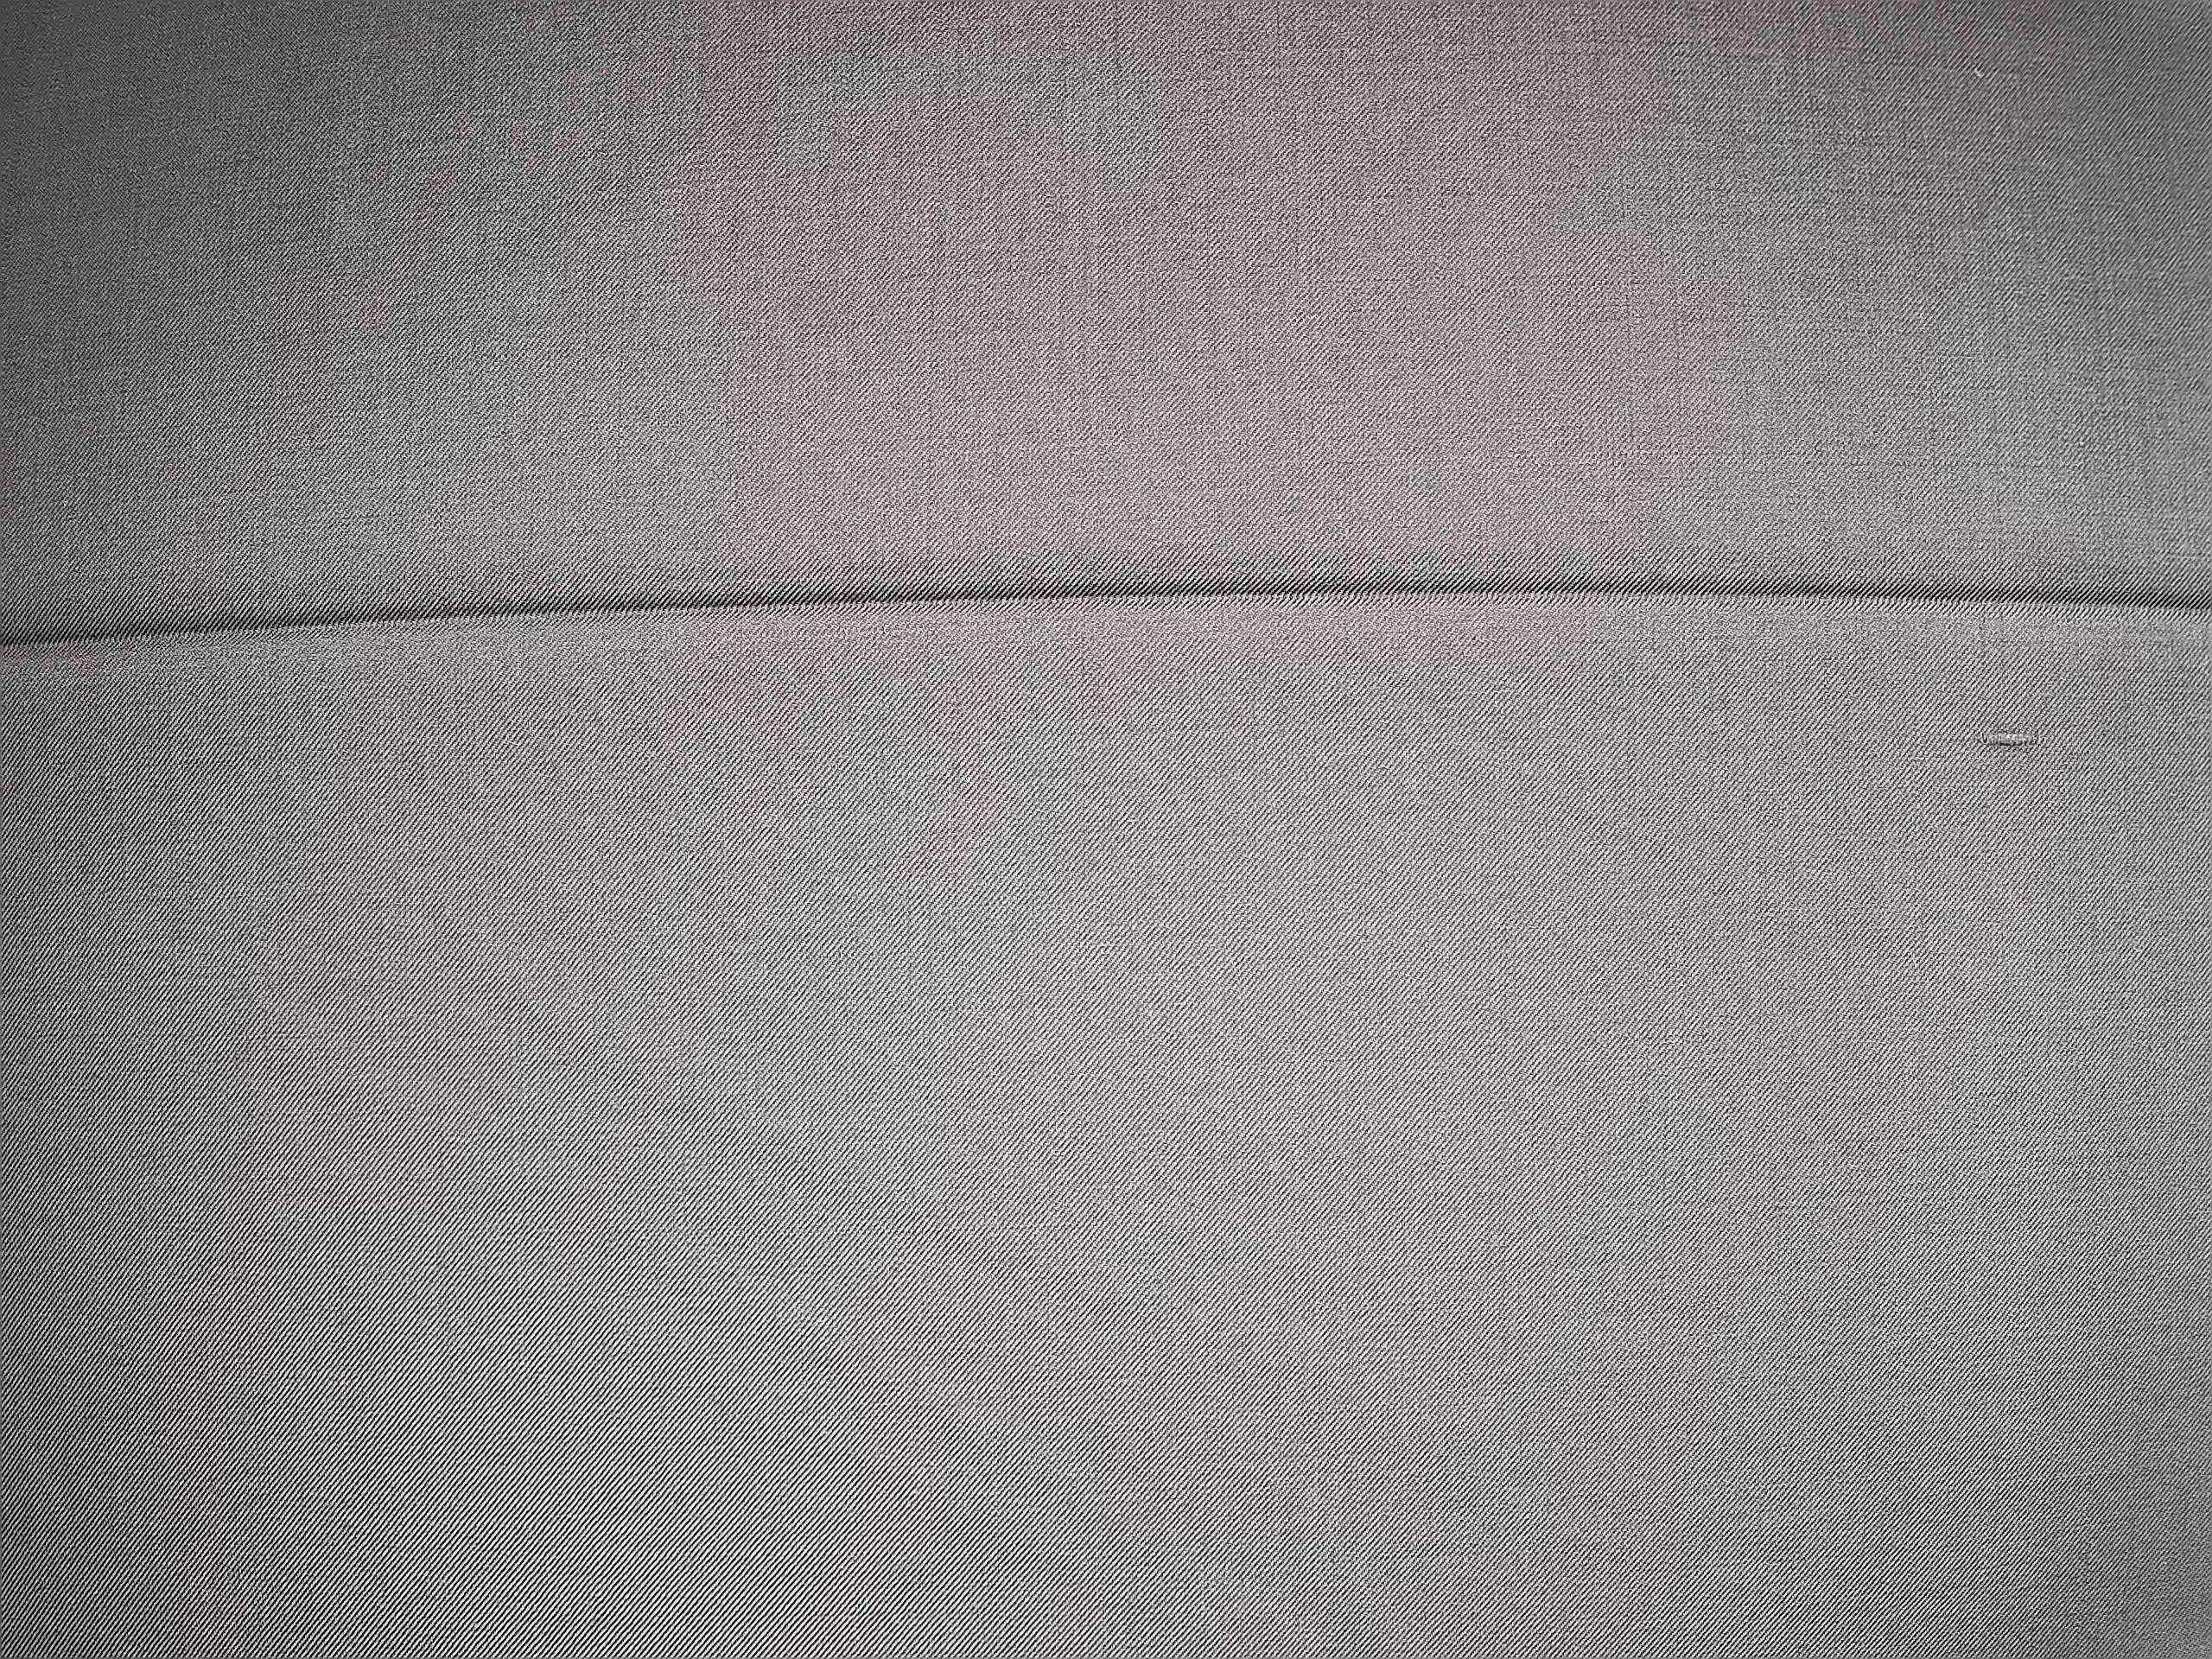others: (1947, 701, 2081, 782)
